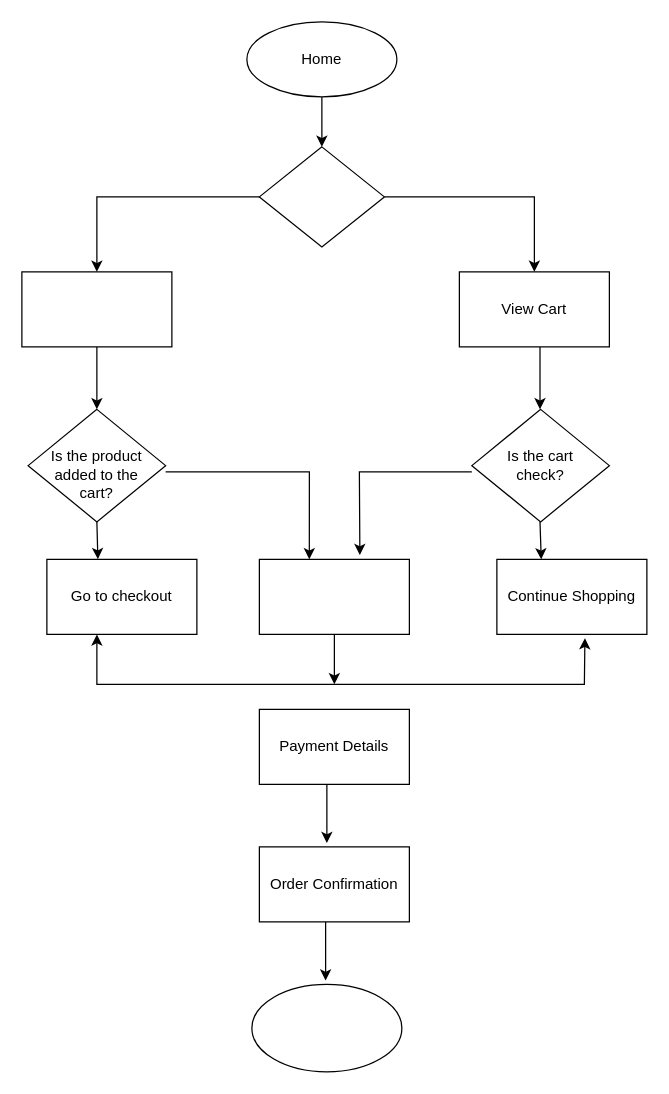
The diagram is 669 pixels wide and 1094 high, and some of its shapes have lost their labels. The centre of each missing label's shape, as x and y in pixels:
"End Program" belongs at [326,1027].
"Is a product selected?" belongs at [321,196].
"Product Details" belongs at [96,309].
"View cart items" belongs at [333,596].
